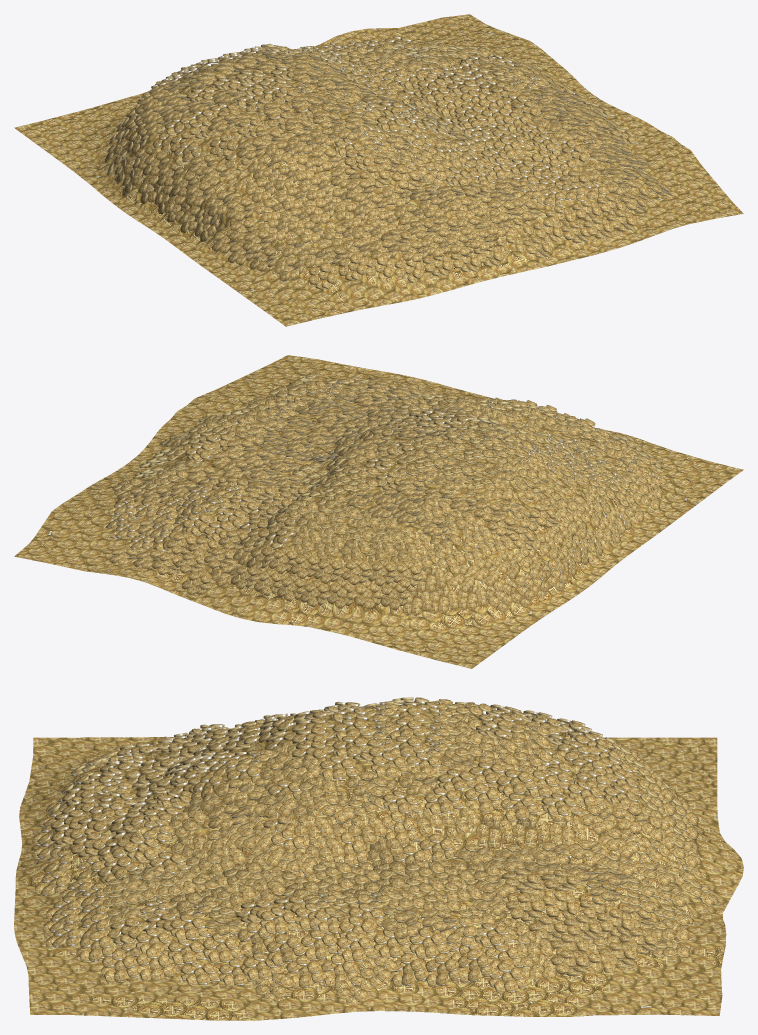
File: goldpile1.fbx
3 views of the same model, one above another, from view 1: azimuth 30°, elevation 25°; view 2: azimuth 150°, elevation 25°; view 3: azimuth 270°, elevation 25° (orthographic). The views are drawn at different scales.
Visible parts, largest first — view 1: gold_complete; view 2: gold_complete; view 3: gold_complete.
Boxes of the visible parts, x1,y1,x2,y2 form: gold_complete: [14, 14, 743, 326]; gold_complete: [14, 355, 743, 668]; gold_complete: [14, 697, 743, 1020].
Size of the model in its own units: 534 by 82.82 by 558.
2 materials, 2 textured.
